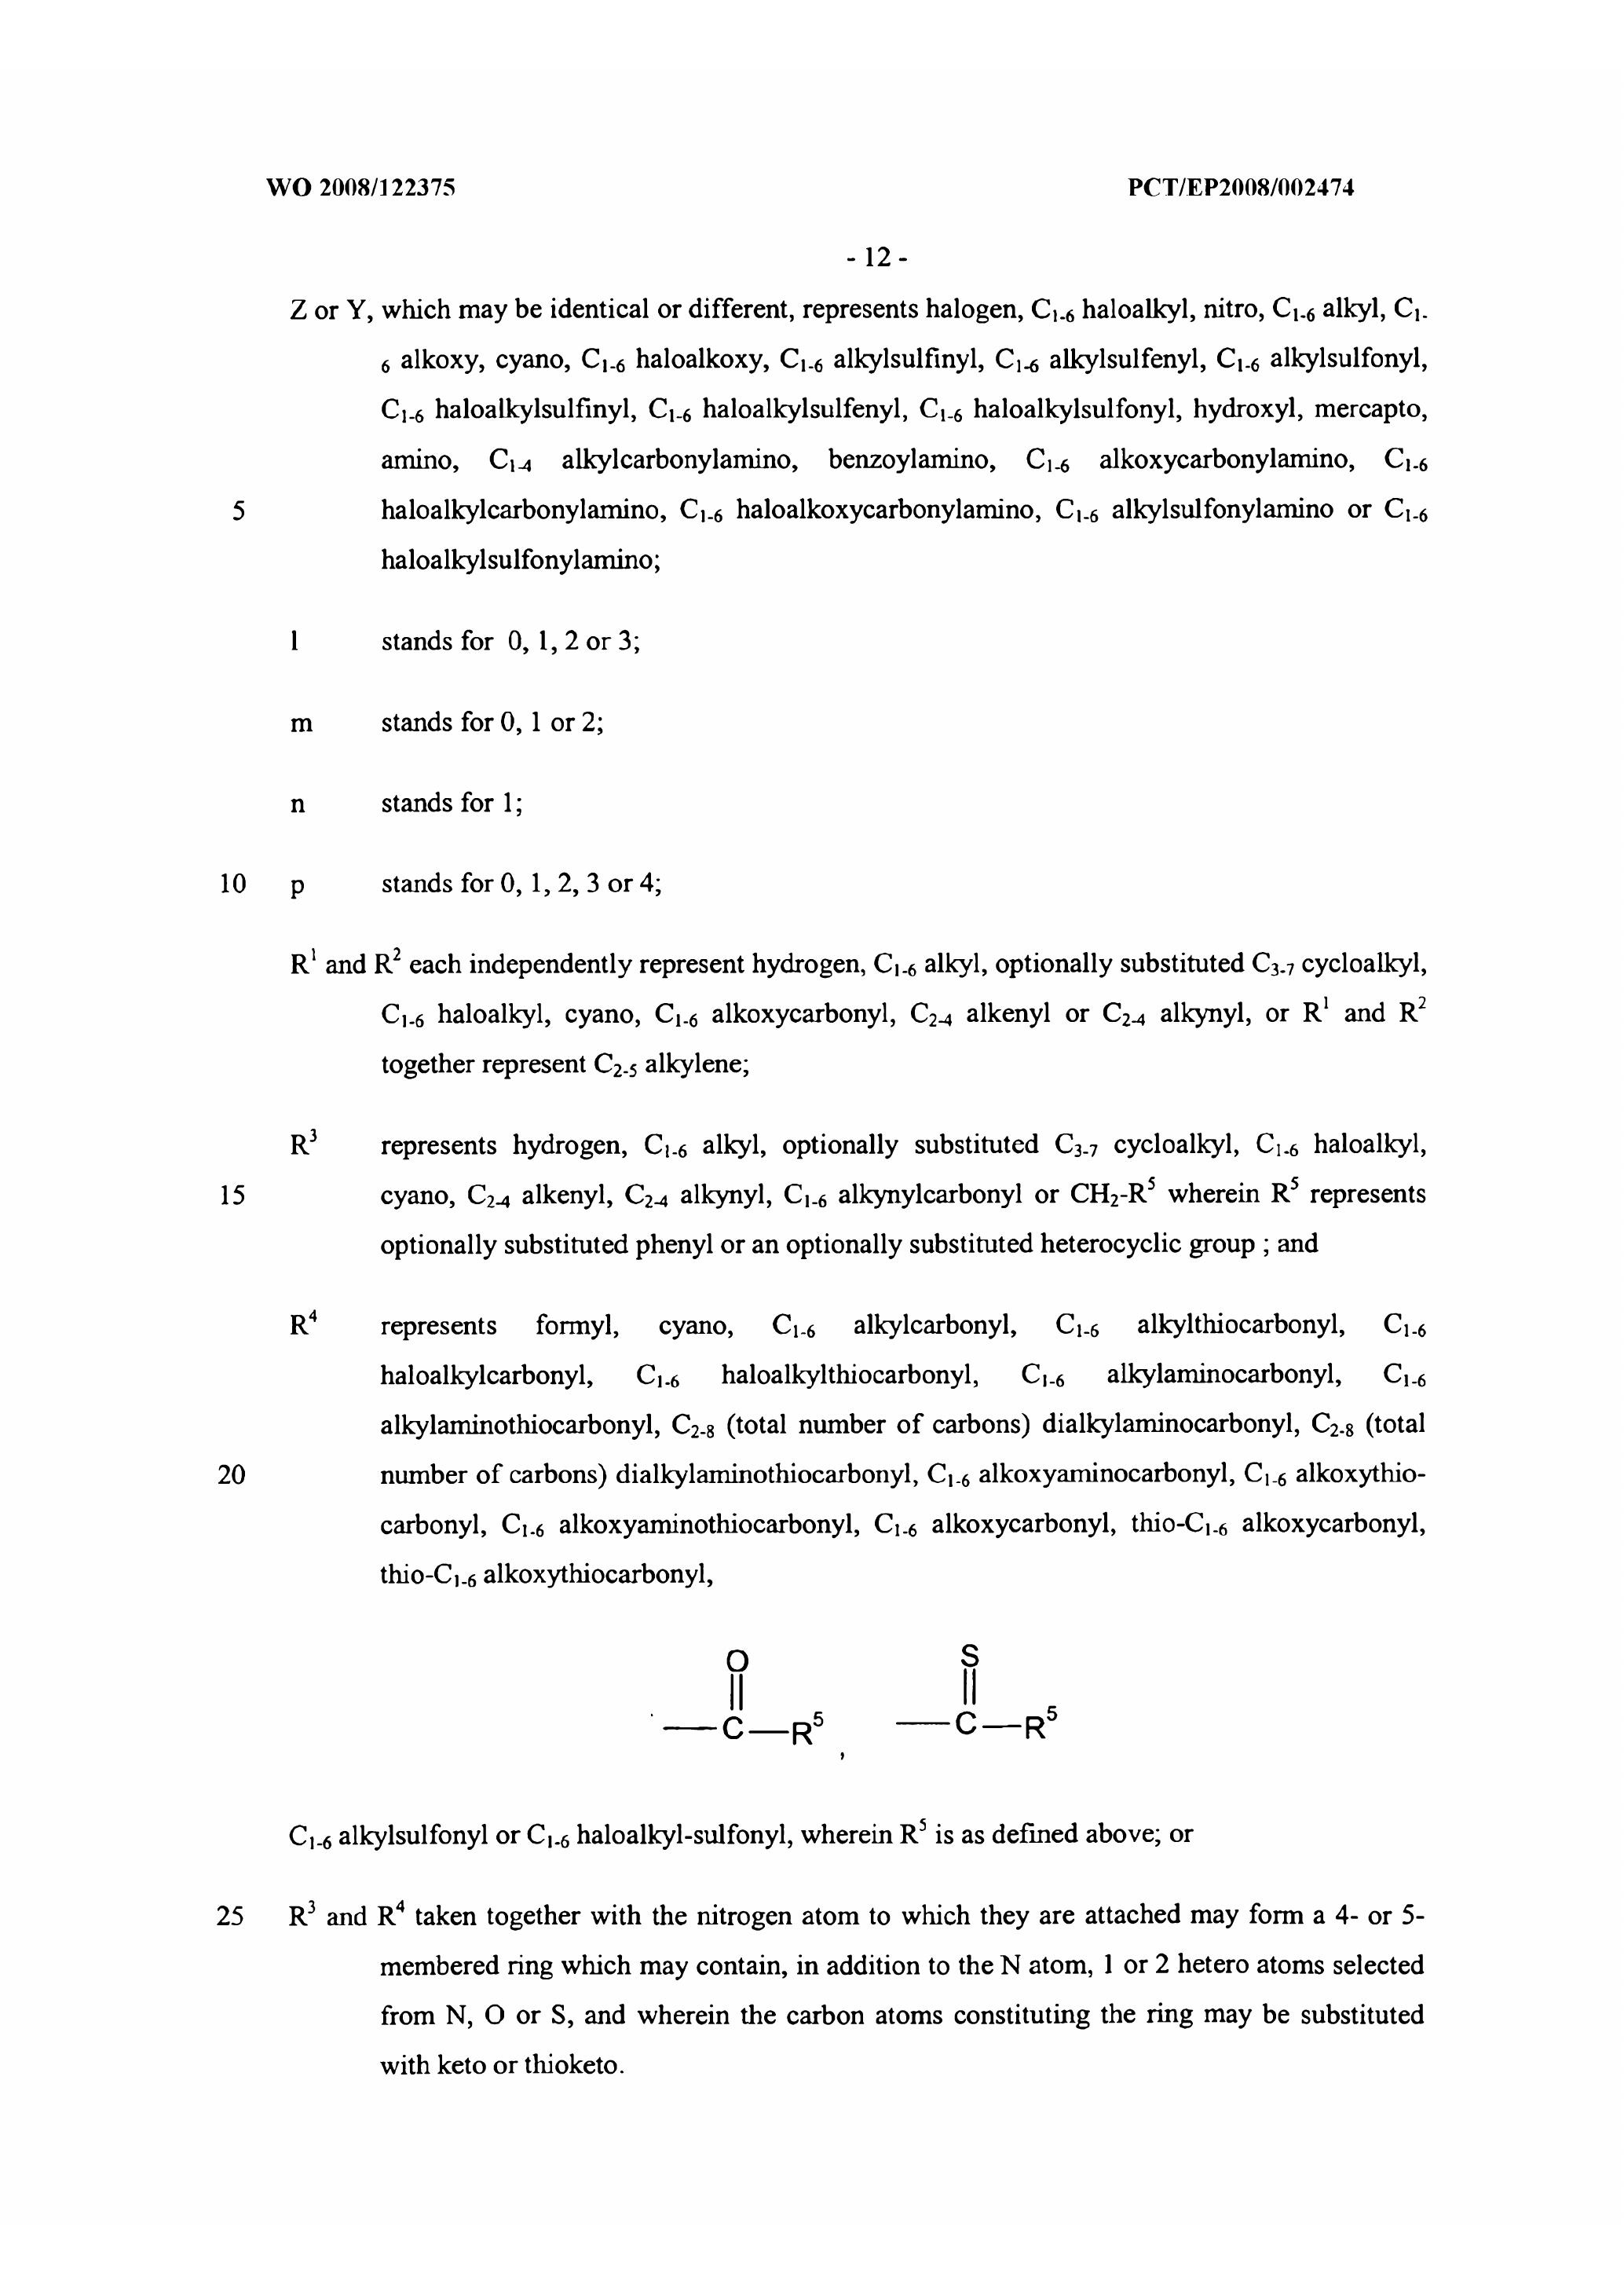substitutes: (257, 1264, 1497, 1864)
